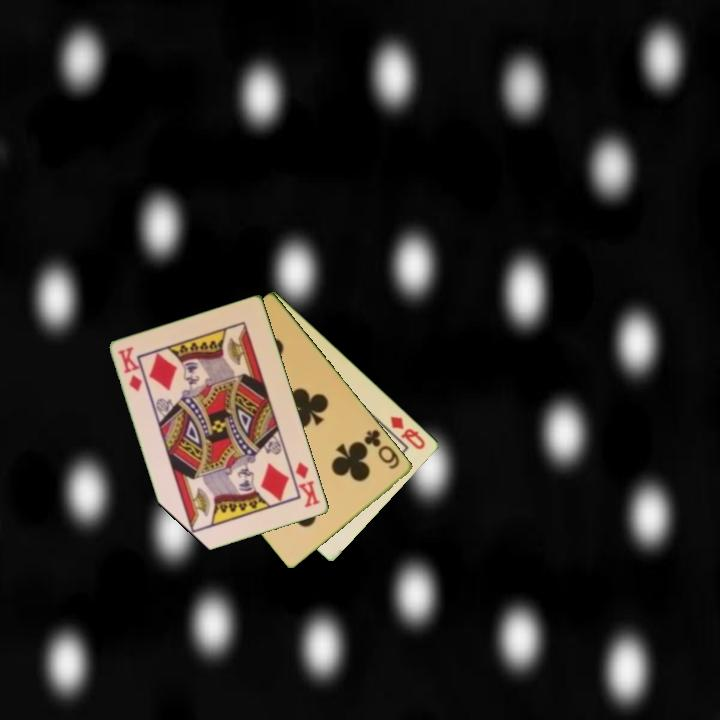6c: (361, 426, 403, 472)
Kd: (292, 458, 323, 511), (115, 343, 146, 394)
Qd: (387, 412, 429, 452)
